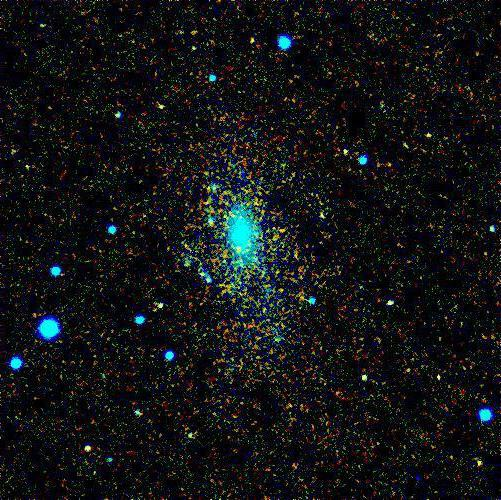star: (419, 122, 449, 152)
